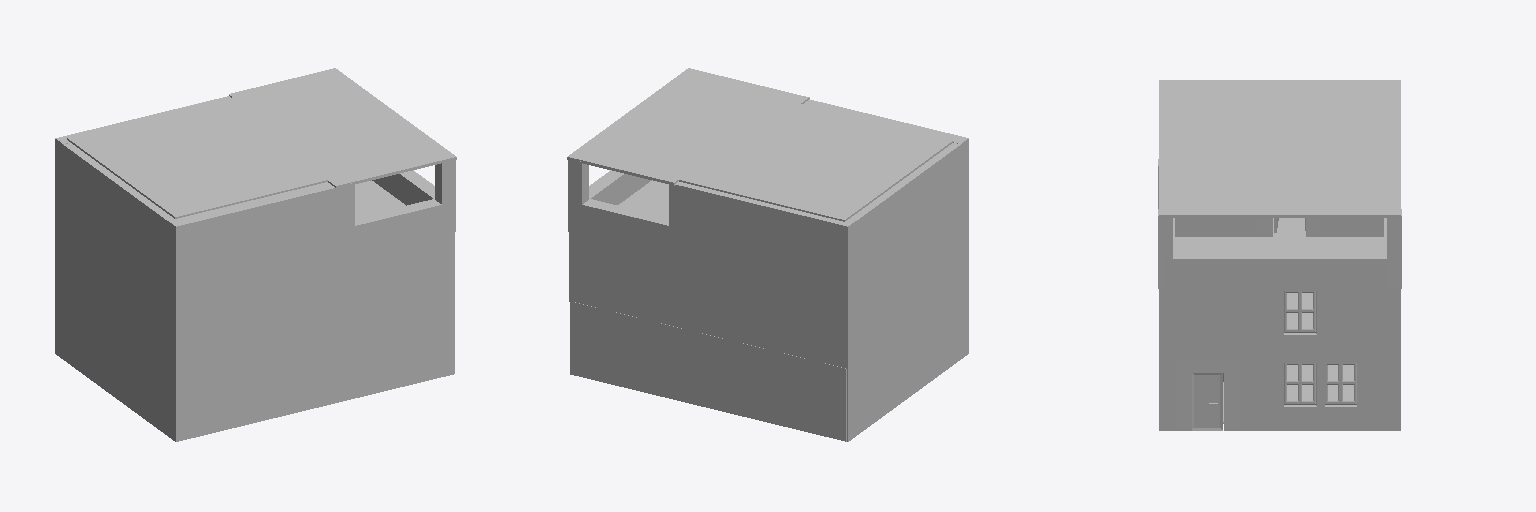
The model's file is CLosed SlumHouse.obj.
The picture shows the model from 3 angles: view 1: azimuth 30°, elevation 25°; view 2: azimuth 150°, elevation 25°; view 3: azimuth 270°, elevation 25°; orthographic projection.
Parts seen in each view (by area): view 1: Muur_Lang032, Muur_Lang031, Muur_Lang037, Muur_Lang040, Muur_Lang036, Muur_Lang044, Muur_Lang041, Muur_Kort056, Muur_Kort058, Muur_Kort057, Muur_Kort045, Muur_Kort052 (+28 smaller); view 2: Muur_Lang034, Muur_Lang035, Muur_Lang039, Muur_Lang045, Muur_Lang042, Muur_Lang043, Muur_Lang038, Muur_Kort057, Muur_Kort053, Muur_Kort056, Muur_Kort059, Muur_Kort046 (+28 smaller); view 3: Muur_Kort063, Muur_Kort049, Muur_Kort050, Muur_met_raam_Rechts007, Muur_met_raam_Links005, Muur_met_raam_Rechts008, Muur_met_deur007, Door007, Plafond197, Plafond198, Plafond193, Muur_Kort051 (+28 smaller).
Boxes of the visible parts, <box> form: Muur_Lang032: <box>174,336,315,441</box>; Muur_Lang031: <box>315,302,454,407</box>; Muur_Lang037: <box>174,265,315,369</box>; Muur_Lang040: <box>206,182,352,290</box>; Muur_Lang036: <box>315,232,454,335</box>; Muur_Lang044: <box>315,199,454,307</box>; Muur_Lang041: <box>168,190,315,296</box>; Muur_Kort056: <box>141,200,173,298</box>; Muur_Kort058: <box>87,160,125,257</box>; Muur_Kort057: <box>55,139,93,234</box>; Muur_Kort045: <box>141,344,173,440</box>; Muur_Kort052: <box>141,272,173,366</box>; Muur_Lang034: <box>570,301,709,407</box>; Muur_Lang035: <box>707,335,846,441</box>; Muur_Lang039: <box>708,263,833,364</box>; Muur_Lang045: <box>569,199,708,306</box>; Muur_Lang042: <box>669,181,811,287</box>; Muur_Lang043: <box>708,191,855,295</box>; Muur_Lang038: <box>569,232,707,334</box>; Muur_Kort057: <box>834,202,879,297</box>; Muur_Kort053: <box>834,275,879,369</box>; Muur_Kort056: <box>929,140,966,236</box>; Muur_Kort059: <box>896,161,934,259</box>; Muur_Kort046: <box>847,346,879,441</box>; Muur_Kort063: <box>1165,252,1386,288</box>; Muur_Kort049: <box>1172,289,1235,358</box>; Muur_Kort050: <box>1321,289,1383,357</box>; Muur_met_raam_Rechts007: <box>1256,358,1320,430</box>; Muur_met_raam_Links005: <box>1321,358,1384,430</box>; Muur_met_raam_Rechts008: <box>1257,289,1320,358</box>; Muur_met_deur007: <box>1175,359,1239,430</box>; Door007: <box>1192,373,1222,430</box>; Plafond197: <box>1175,105,1239,131</box>; Plafond198: <box>1230,105,1294,131</box>; Plafond193: <box>1175,132,1239,155</box>; Muur_Kort051: <box>1236,289,1256,358</box>.
Size of the model in its own units: 396 by 295 by 297.